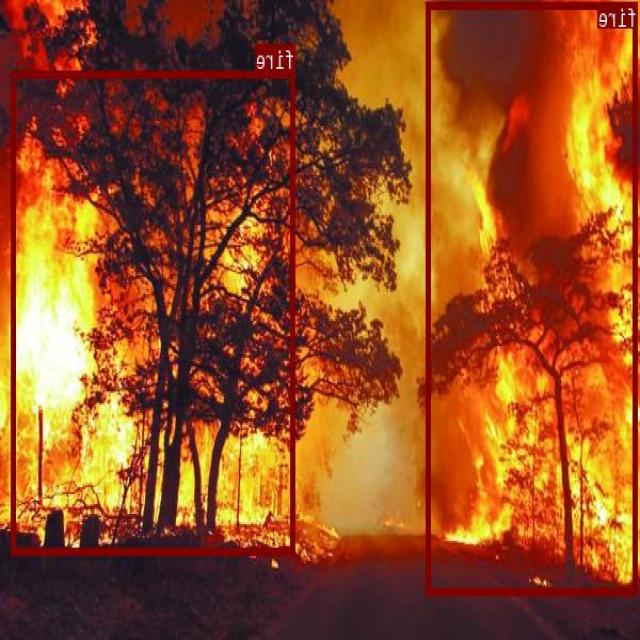fire: (12, 70, 296, 554), (427, 0, 639, 593)
